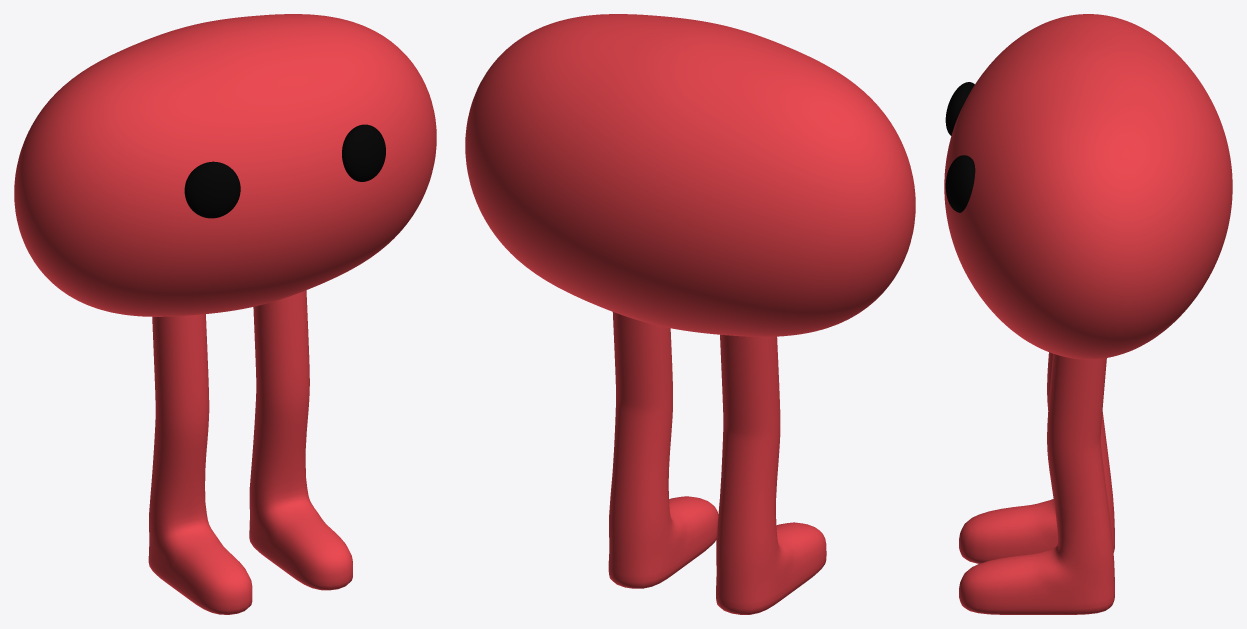
The model's file is pikuniku_norig.fbx.
3 renders of one model, left to right at view 1: azimuth 30°, elevation 25°; view 2: azimuth 150°, elevation 25°; view 3: azimuth 270°, elevation 25°, orthographic. The views are drawn at different scales.
Parts seen in each view (by area): view 1: Sphere, Cube, Sphere.001; view 2: Sphere, Cube; view 3: Sphere, Cube, Sphere.001.
Boxes of the visible parts, left/top/right/bottom form: Sphere: left=14, top=14, right=436, bottom=316; Cube: left=148, top=290, right=352, bottom=614; Sphere.001: left=184, top=124, right=385, bottom=218; Sphere: left=465, top=14, right=915, bottom=336; Cube: left=608, top=312, right=826, bottom=614; Sphere: left=944, top=14, right=1232, bottom=359; Cube: left=959, top=352, right=1114, bottom=614; Sphere.001: left=945, top=82, right=975, bottom=212.
Bounding box in the file's own units: 316 × 399 × 197.
